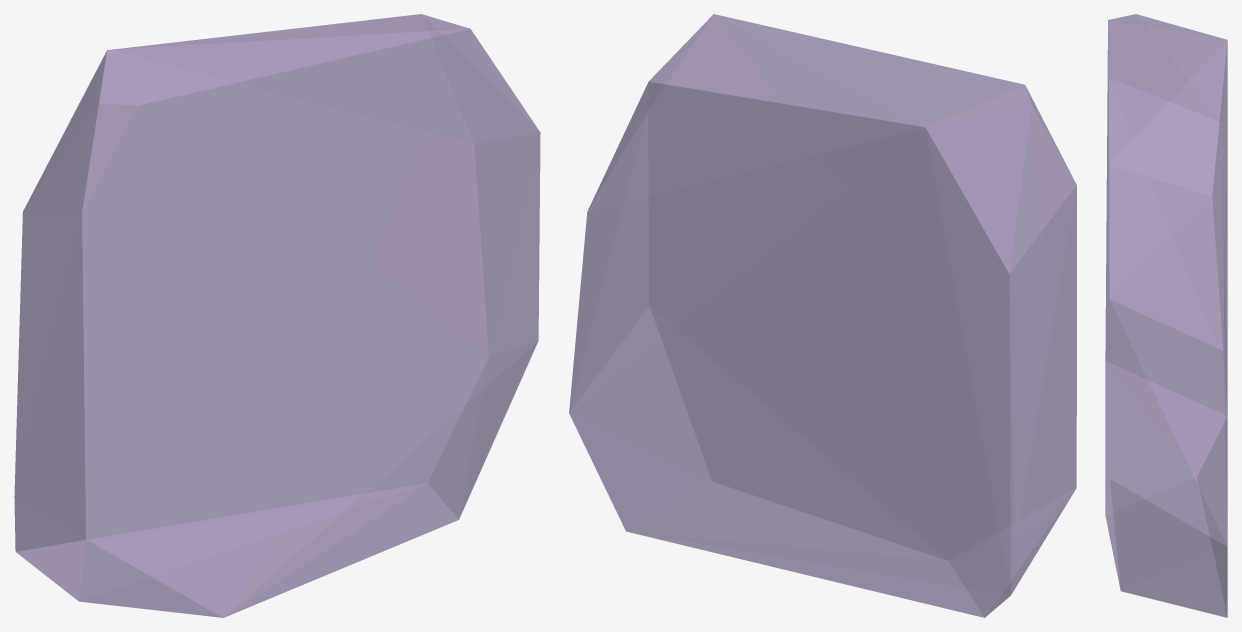
3 views of the same model, side by side, from view 1: azimuth 30°, elevation 25°; view 2: azimuth 150°, elevation 25°; view 3: azimuth 270°, elevation 25° (orthographic). The views are drawn at different scales.
Parts seen in each view (by area): view 1: Shape_IndexedFaceSet.247_Shape_IndexedFaceSet.7859; view 2: Shape_IndexedFaceSet.247_Shape_IndexedFaceSet.7859; view 3: Shape_IndexedFaceSet.247_Shape_IndexedFaceSet.7859.
Boxes of the visible parts, x1,y1,x2,y2 form: Shape_IndexedFaceSet.247_Shape_IndexedFaceSet.7859: (14,14,540,617); Shape_IndexedFaceSet.247_Shape_IndexedFaceSet.7859: (569,14,1076,617); Shape_IndexedFaceSet.247_Shape_IndexedFaceSet.7859: (1105,14,1227,617).
Size of the model in its own units: 0.0755 by 0.0805 by 0.0194.
